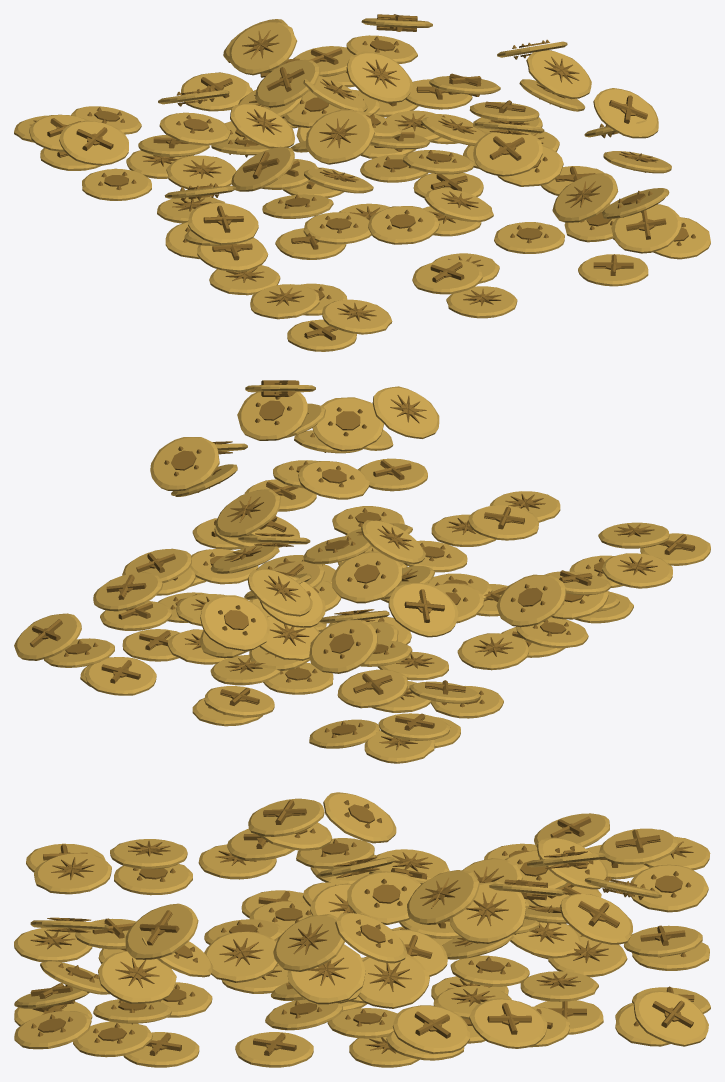
The model's file is CoinPile.glb.
3 views of the same model, one above another, from view 1: azimuth 30°, elevation 25°; view 2: azimuth 150°, elevation 25°; view 3: azimuth 270°, elevation 25° (orthographic). The views are drawn at different scales.
Visible parts, largest first — view 1: Coin_90, Coin_84, Coin_58, Coin_49, Coin_72, Coin_88, Coin_73, Coin_79, Coin_51, Coin_71, Coin_78, Coin_82 (+59 smaller); view 2: Coin_83, Coin_92, Coin_91, Coin_95, Coin_50, Coin_53, Coin_89, Coin_65, Coin_51, Coin_85, Coin_67, Coin_69 (+54 smaller); view 3: Coin_60, Coin_85, Coin_57, Coin_64, Coin_73, Coin_78, Coin_40, Coin_81, Coin_54, Coin_75, Coin_77, Coin_72 (+65 smaller).
Boxes of the visible parts, x1,y1,x2,y2 form: Coin_90: (306,109,374,164); Coin_84: (229,22,297,75); Coin_58: (473,131,542,176); Coin_49: (611,204,681,253); Coin_72: (346,51,412,103); Coin_88: (59,120,128,165); Coin_73: (593,88,658,138); Coin_79: (188,202,258,244); Coin_51: (552,173,618,222); Coin_71: (368,206,439,244); Coin_78: (526,50,591,98); Coin_82: (255,59,320,107); Coin_83: (200,595,270,651); Coin_92: (150,437,219,490); Coin_91: (388,583,458,637); Coin_95: (309,619,377,673); Coin_50: (312,397,383,451); Coin_53: (331,551,402,603); Coin_89: (496,574,566,627); Coin_65: (237,392,308,440); Coin_51: (372,386,439,438); Coin_85: (14,613,81,660); Coin_67: (85,657,156,695); Coin_69: (215,489,280,537); Coin_60: (449,881,525,943); Coin_85: (633,990,708,1046); Coin_57: (98,951,176,1003); Coin_64: (469,998,547,1048); Coin_73: (125,903,198,959); Coin_78: (273,914,344,971); Coin_40: (392,1005,469,1053); Coin_81: (204,931,277,982); Coin_54: (358,954,429,1008); Coin_75: (287,944,365,1004); Coin_77: (347,871,420,924); Coin_72: (407,870,479,924).
Size of the model in its own units: 0.2007 by 0.0602 by 0.266.
